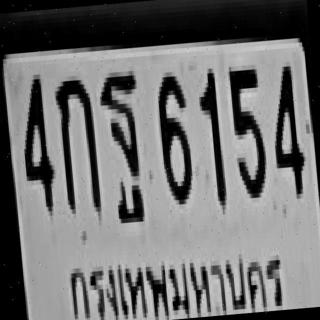A01: (52, 70, 99, 210)
A16: (96, 66, 145, 206)
N01: (195, 64, 225, 202)
N04: (16, 69, 55, 208), (266, 59, 304, 194)
N05: (227, 60, 267, 194)
N06: (154, 66, 192, 201)
P04: (60, 232, 289, 320)
